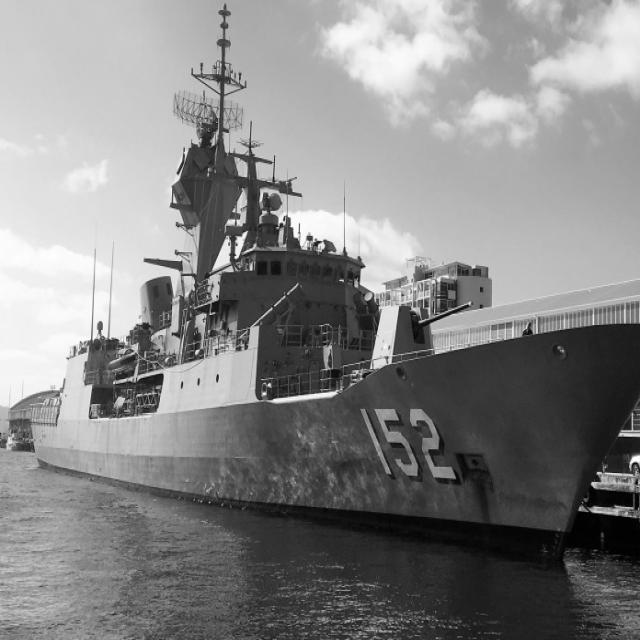Fragata: (30, 1, 640, 577)
